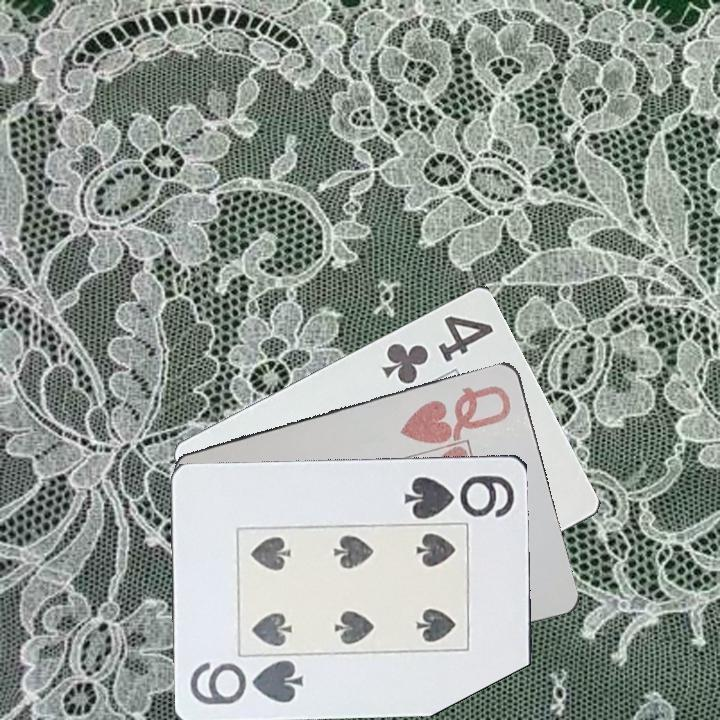4c: (378, 311, 497, 387)
6s: (187, 656, 307, 707), (401, 471, 518, 520)
Qh: (396, 381, 515, 447)
